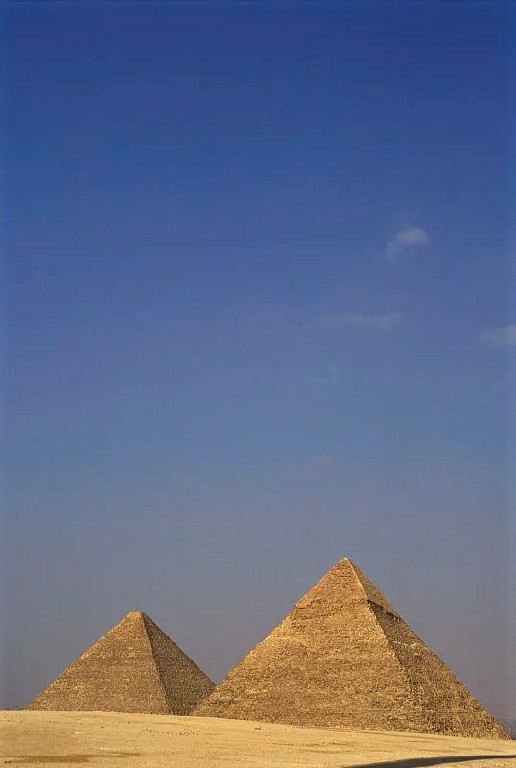Pyramid: (188, 558, 511, 739), (26, 611, 216, 716)
